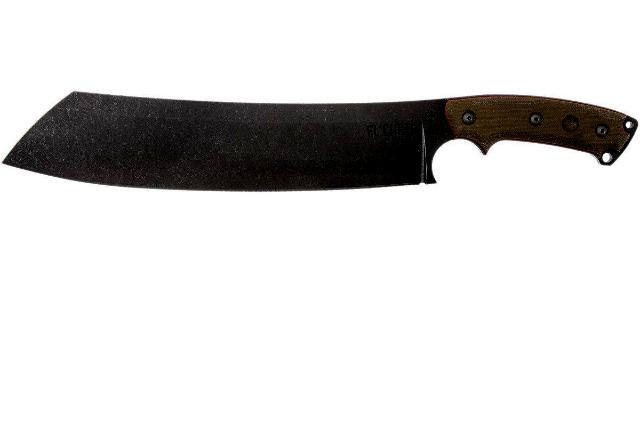long knife: (6, 78, 628, 224)
